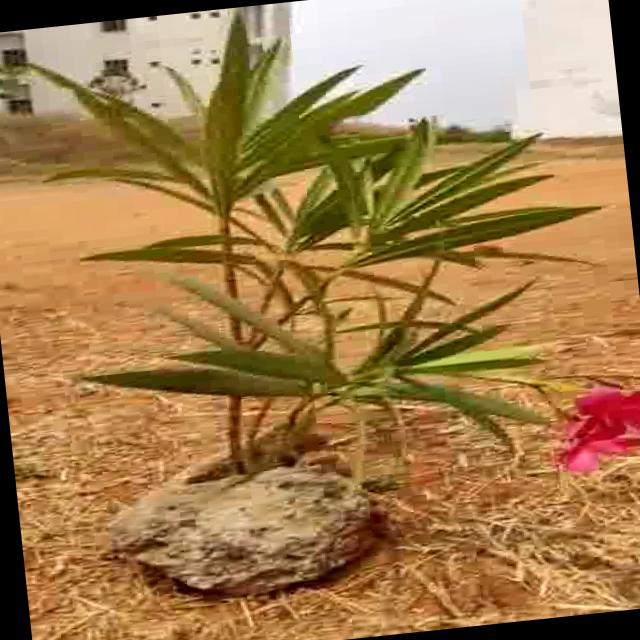OLEANDER: (24, 0, 640, 508)
